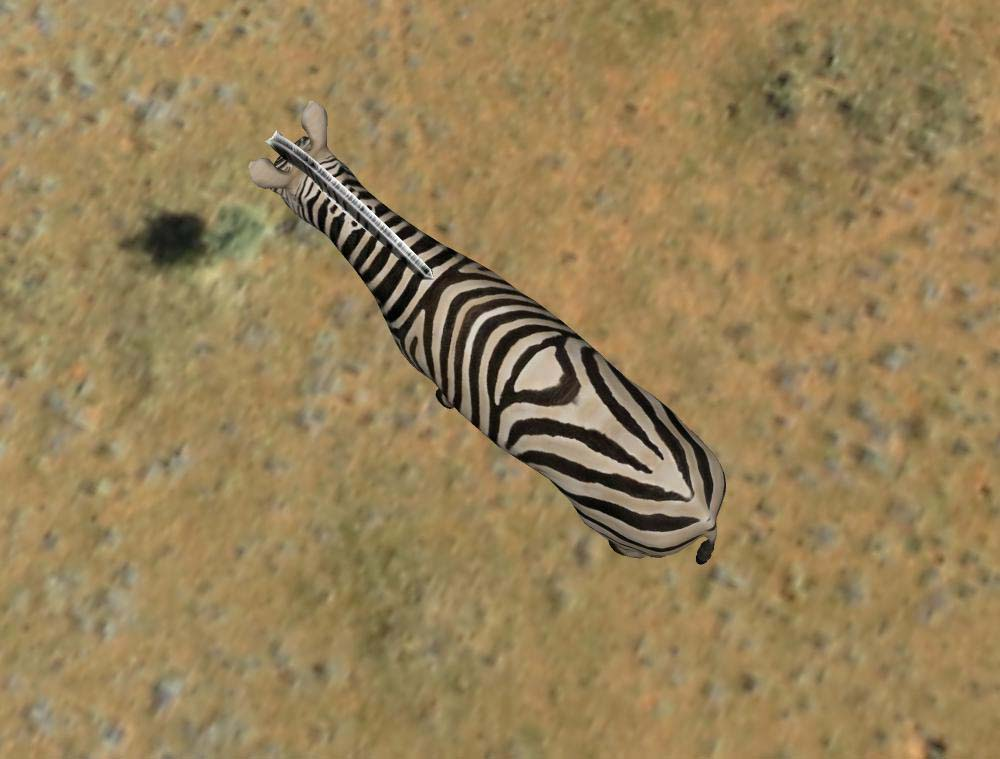zebra: (242, 99, 725, 581)
